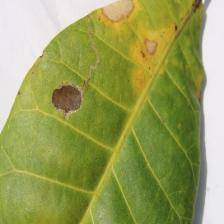leaf miner: (0, 0, 206, 224)
